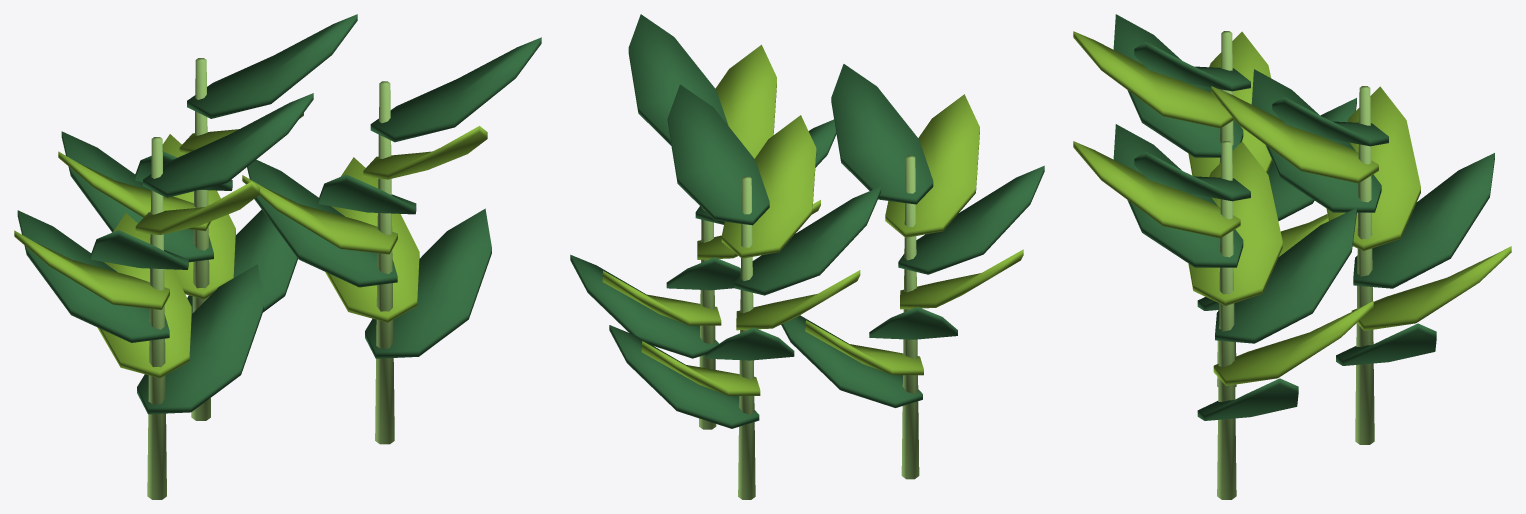
The model's file is stage_2_leaf.glb.
The picture shows the model from 3 angles, left to right: view 1: azimuth 30°, elevation 25°; view 2: azimuth 150°, elevation 25°; view 3: azimuth 270°, elevation 25°; orthographic projection. The views are drawn at different scales.
Visible parts, largest first — view 1: 复叶.007, 复叶, 复叶.013, 复叶.020, 复叶.006, 复叶.002, 复叶.009, 复叶.008, 复叶.001, 主茎.001, 主茎, 复叶.016 (+12 smaller); view 2: 复叶.020, 复叶.006, 复叶.019, 复叶.005, 复叶.004, 复叶.018, 复叶.013, 复叶.014, 复叶.012, 复叶.007, 复叶, 主茎.002 (+12 smaller); view 3: 复叶.016, 复叶.009, 复叶.010, 复叶.017, 复叶.019, 复叶.012, 复叶.005, 复叶.011, 复叶.018, 主茎.001, 复叶.008, 主茎.002 (+11 smaller).
Boxes of the visible parts, box(x1,y1,x2,y2) form: 复叶.007: box(365, 208, 491, 358); 复叶: box(137, 264, 263, 414); 复叶.013: box(370, 37, 541, 142); 复叶.020: box(187, 14, 357, 118); 复叶.006: box(143, 93, 313, 197); 复叶.002: box(17, 210, 169, 342); 复叶.009: box(247, 159, 397, 287); 复叶.008: box(325, 157, 419, 322); 复叶.001: box(97, 213, 191, 378); 主茎.001: box(375, 81, 394, 444); 主茎: box(147, 137, 166, 499); 复叶.016: box(61, 131, 213, 262); 复叶.020: box(667, 84, 769, 225); 复叶.006: box(831, 64, 933, 204); 复叶.019: box(721, 115, 816, 258); 复叶.005: box(885, 94, 979, 237); 复叶.004: box(898, 165, 1044, 274); 复叶.018: box(734, 186, 880, 295); 复叶.013: box(628, 14, 728, 145); 复叶.014: box(609, 325, 759, 428); 复叶.012: box(715, 44, 776, 158); 复叶.007: box(570, 254, 718, 358); 复叶: box(781, 315, 922, 407); 主茎.002: box(738, 176, 755, 499); 复叶.016: box(1353, 153, 1494, 288); 复叶.009: box(1215, 207, 1356, 343); 复叶.010: box(1188, 141, 1282, 305); 复叶.017: box(1326, 86, 1420, 251); 复叶.019: box(1211, 86, 1378, 183); 复叶.012: box(1073, 141, 1240, 238); 复叶.005: box(1073, 31, 1234, 128); 复叶.011: box(1113, 124, 1243, 267); 复叶.018: box(1251, 69, 1381, 212); 主茎.001: box(1217, 141, 1236, 499); 复叶.008: box(1213, 301, 1373, 385); 主茎.002: box(1355, 86, 1374, 444).
Bounding box in the file's own units: 1.03 × 0.8158 × 0.8097.
1 material, 1 textured.
